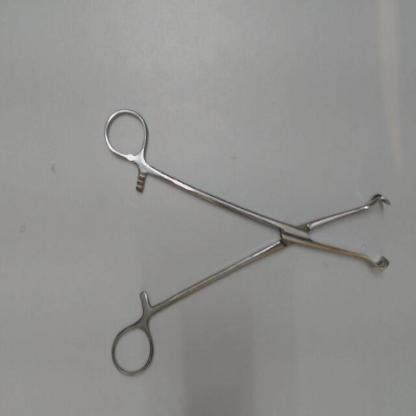8 Babcock Tissue Forceps: (99, 101, 394, 382)
